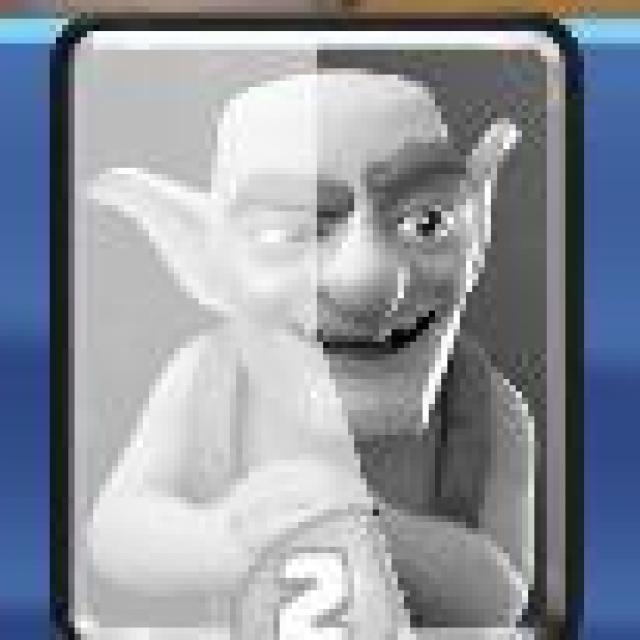Goblins: (41, 9, 580, 640)
